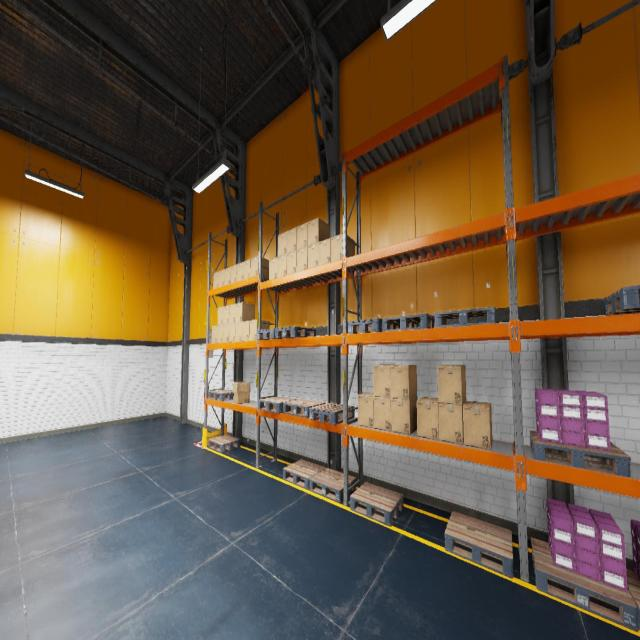box: (463, 401, 492, 449), (438, 401, 466, 445), (438, 365, 466, 405), (391, 396, 417, 434), (390, 364, 417, 400), (416, 397, 438, 440), (373, 364, 395, 398), (331, 234, 355, 262), (307, 217, 330, 246), (374, 396, 391, 431), (358, 392, 374, 428), (250, 320, 270, 340), (235, 302, 255, 322), (232, 382, 250, 404), (251, 256, 269, 278), (319, 238, 331, 266), (297, 222, 307, 250), (297, 246, 307, 272), (308, 242, 318, 268), (287, 227, 297, 253), (286, 250, 296, 274), (278, 231, 286, 257), (278, 254, 286, 277), (269, 257, 277, 280), (243, 259, 251, 279), (242, 320, 249, 340), (229, 303, 236, 323), (230, 264, 237, 284), (235, 322, 242, 341), (237, 261, 243, 281), (229, 323, 235, 342), (222, 324, 228, 343), (223, 305, 229, 324), (217, 306, 223, 325), (217, 324, 223, 342), (224, 267, 230, 285), (213, 272, 219, 288), (212, 325, 217, 343), (219, 269, 224, 287)
pallets: (531, 538, 638, 632), (530, 431, 630, 477), (445, 511, 513, 578), (350, 482, 403, 526), (309, 468, 356, 502), (282, 460, 326, 490), (434, 307, 496, 327), (604, 285, 640, 315), (309, 403, 354, 424), (382, 314, 434, 332), (626, 569, 640, 630), (283, 399, 325, 418), (258, 396, 297, 413), (208, 434, 240, 453), (348, 318, 382, 334), (275, 326, 316, 338), (208, 389, 233, 401), (257, 328, 282, 340)
